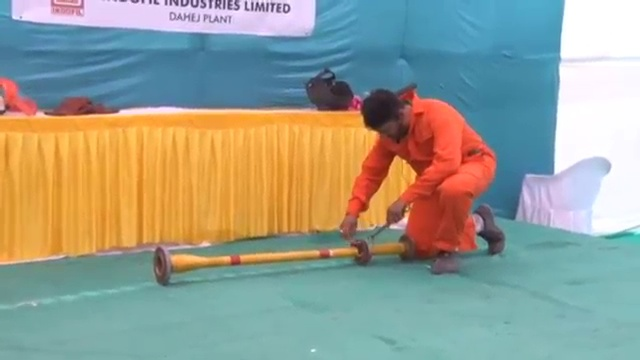helmet_off: (360, 89, 410, 139)
person: (344, 87, 510, 259)
